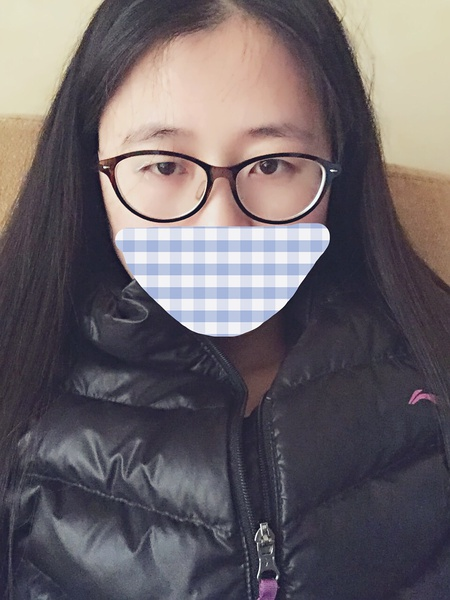face_mask: (100, 21, 326, 331)
